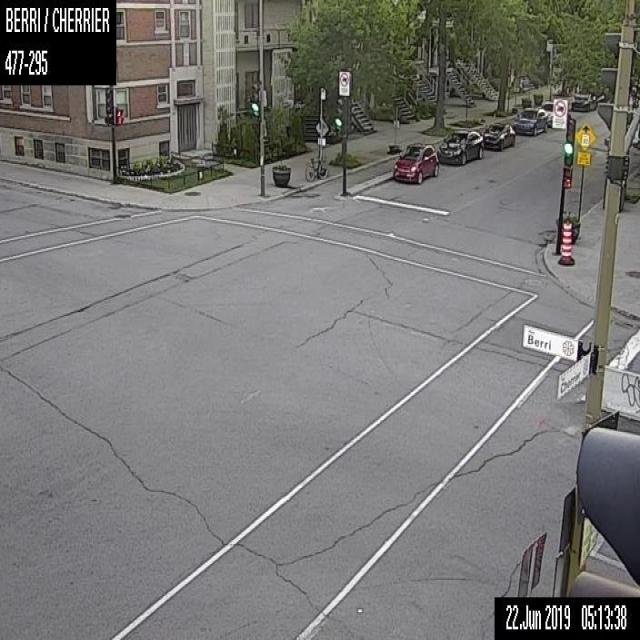construction: (556, 220, 574, 264)
vehicle: (392, 143, 438, 181), (436, 129, 483, 164), (482, 122, 515, 150), (514, 106, 547, 134), (571, 94, 596, 111), (540, 100, 552, 127)
